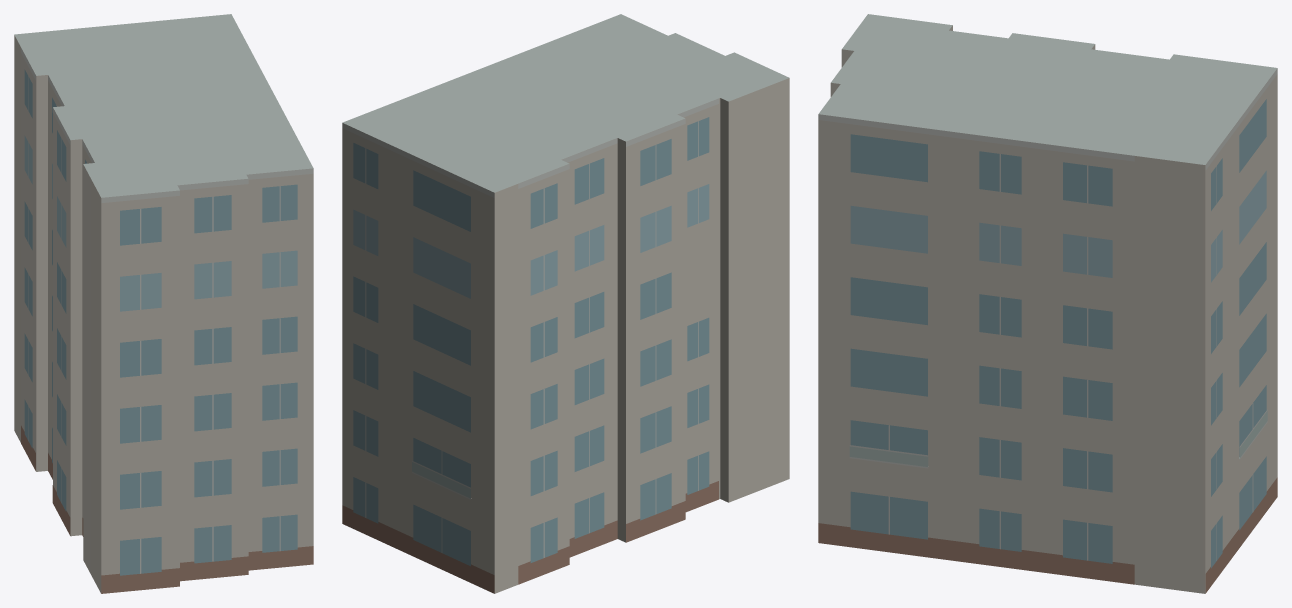
File: survey-upis-32668062.glb
3 renders of one model, left to right at view 1: azimuth 30°, elevation 25°; view 2: azimuth 150°, elevation 25°; view 3: azimuth 270°, elevation 25°, orthographic. The views are drawn at different scales.
Parts seen in each view (by area): view 1: survey-upis-32668062.tmp; view 2: survey-upis-32668062.tmp; view 3: survey-upis-32668062.tmp.
Part boxes in pixels (left/top/right/bottom): survey-upis-32668062.tmp: left=14, top=14, right=313, bottom=593; survey-upis-32668062.tmp: left=342, top=14, right=789, bottom=593; survey-upis-32668062.tmp: left=818, top=14, right=1277, bottom=593.
Size of the model in its own units: 13.65 by 18.05 by 17.53.
